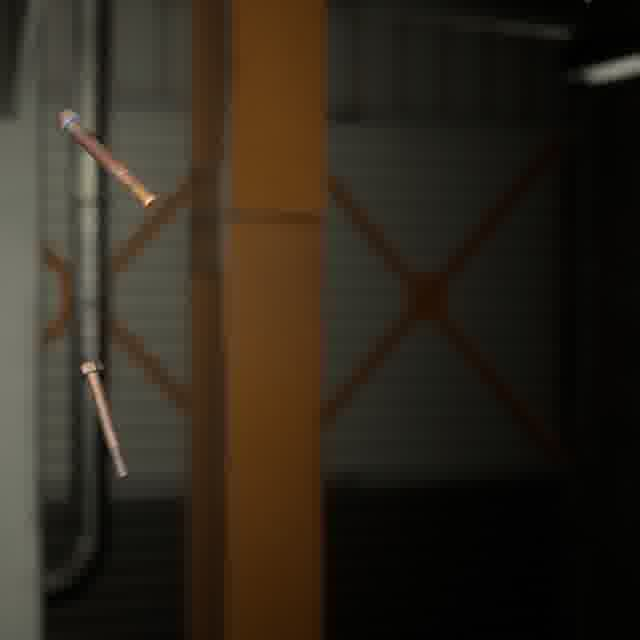bolt: (49, 104, 162, 214), (72, 356, 134, 483)
